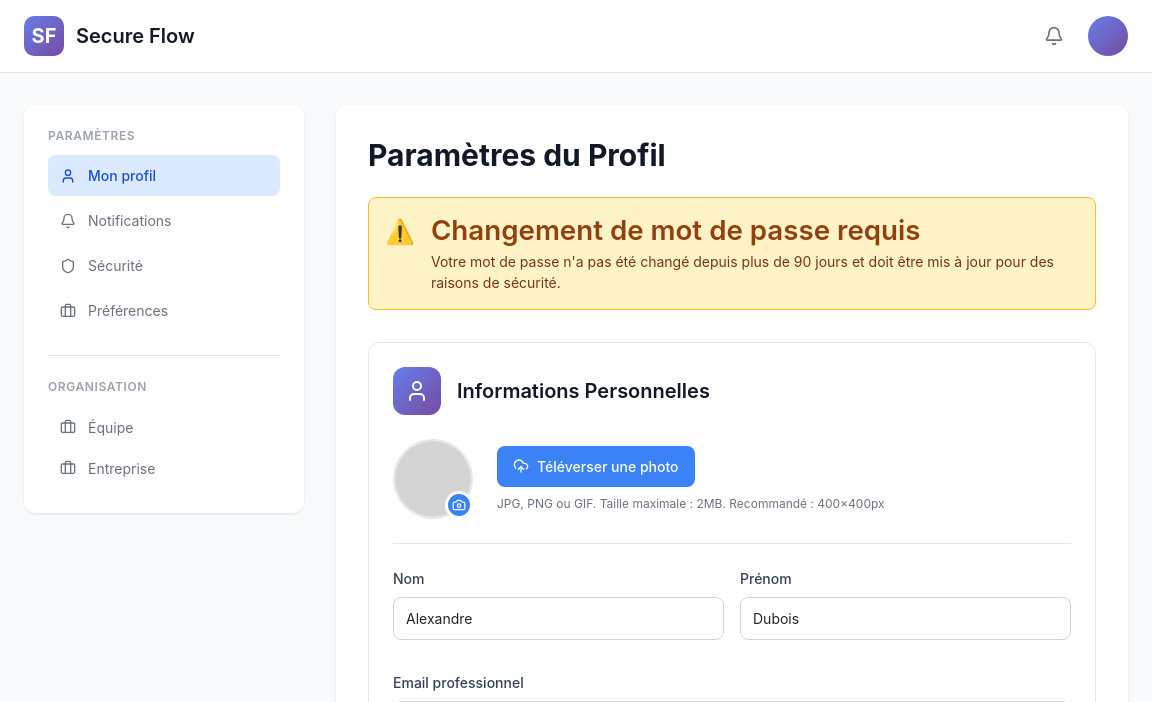
Test: ProfilManager Integration Tests › doit naviguer vers la section Sécurité
// Cliquer sur le bouton de navigation
Step 1. Click the button "Sécurité" → (164, 266), box [48,245,280,286]
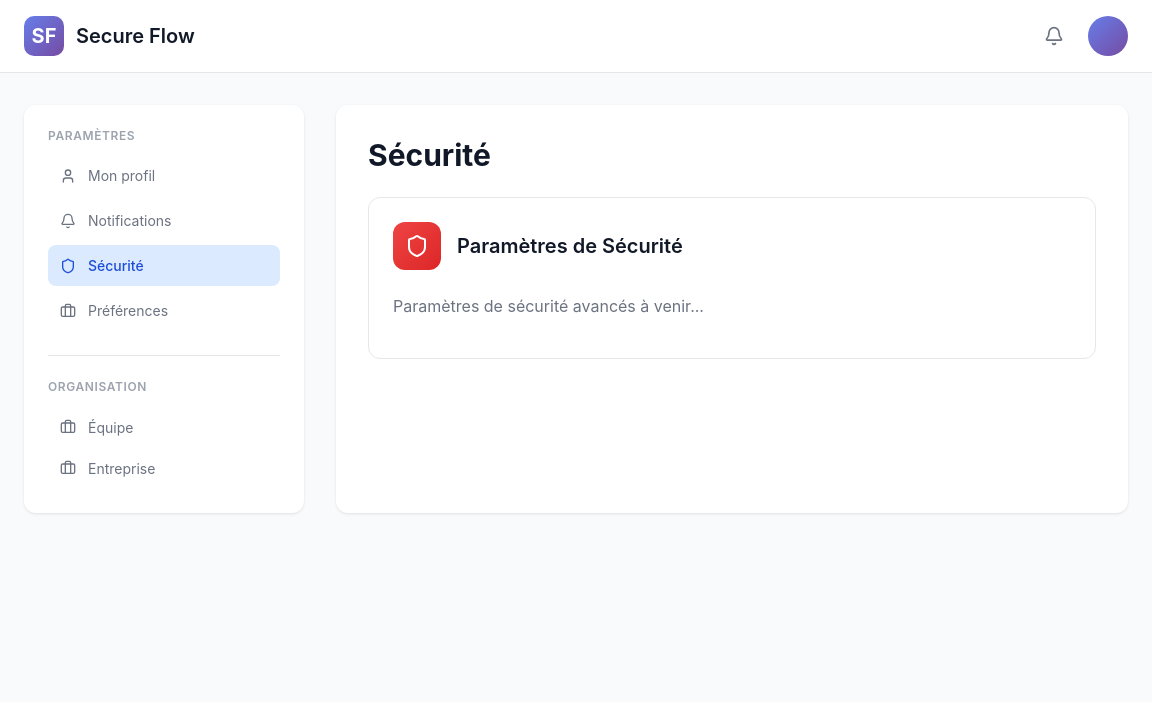
expect the heading "Sécurité" is shown: met, box [368,137,491,173]
